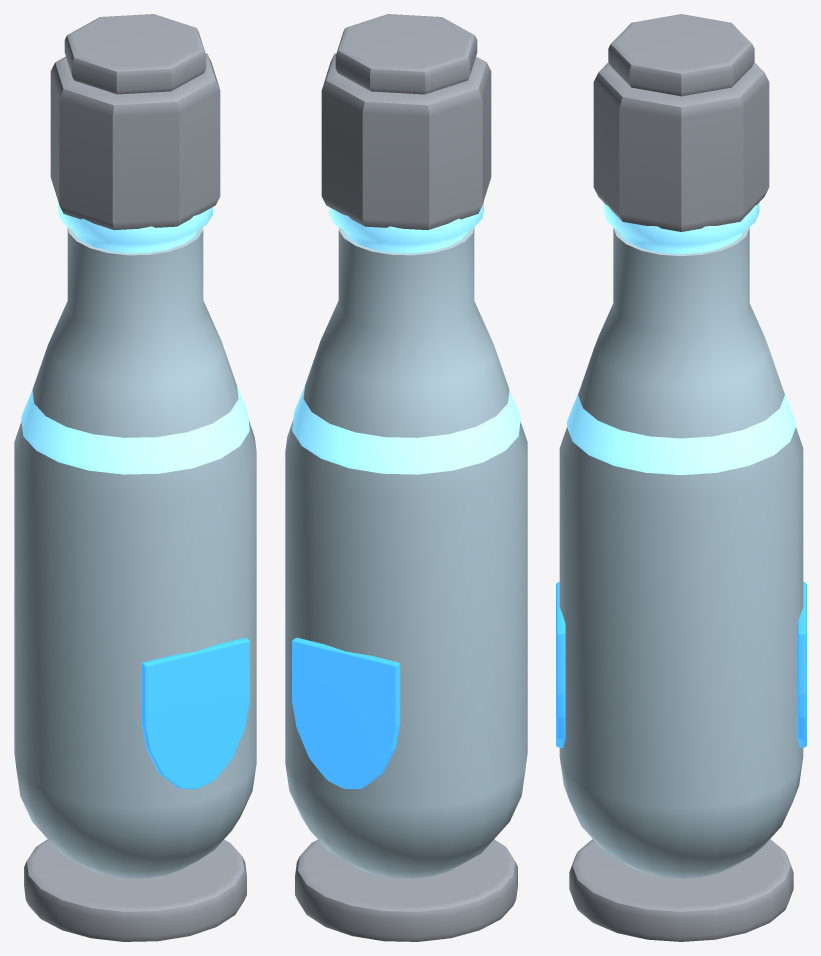
File: mini.glb
3 views of the same model, side by side, from view 1: azimuth 30°, elevation 25°; view 2: azimuth 150°, elevation 25°; view 3: azimuth 270°, elevation 25° (orthographic).
Visible parts, largest first — view 1: glass, cap, base, emblem, neck; view 2: glass, cap, base, emblem, neck; view 3: glass, cap, base, neck, emblem.
Boxes of the visible parts, left/top/right/bottom form: glass: left=14, top=227, right=256, bottom=878; cap: left=50, top=14, right=220, bottom=230; base: left=24, top=839, right=246, bottom=941; emblem: left=141, top=637, right=249, bottom=788; neck: left=21, top=201, right=249, bottom=474; glass: left=285, top=227, right=527, bottom=878; cap: left=321, top=14, right=491, bottom=230; base: left=295, top=839, right=517, bottom=941; emblem: left=292, top=637, right=400, bottom=788; neck: left=292, top=201, right=520, bottom=474; glass: left=559, top=227, right=803, bottom=878; cap: left=593, top=14, right=769, bottom=231; base: left=569, top=839, right=793, bottom=941; neck: left=567, top=203, right=795, bottom=475; emblem: left=556, top=582, right=806, bottom=747.
Bounding box in the file's own units: 0.1 × 0.388 × 0.103.
